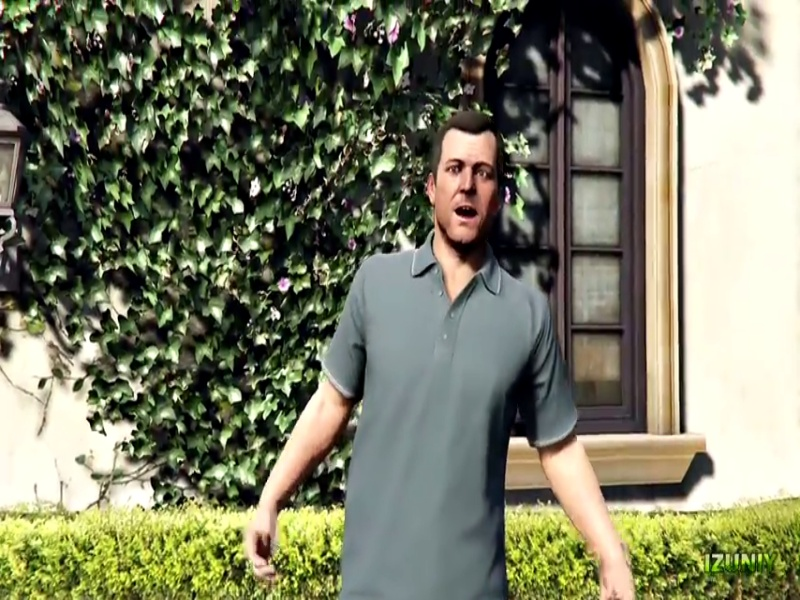human: (246, 105, 572, 598)
